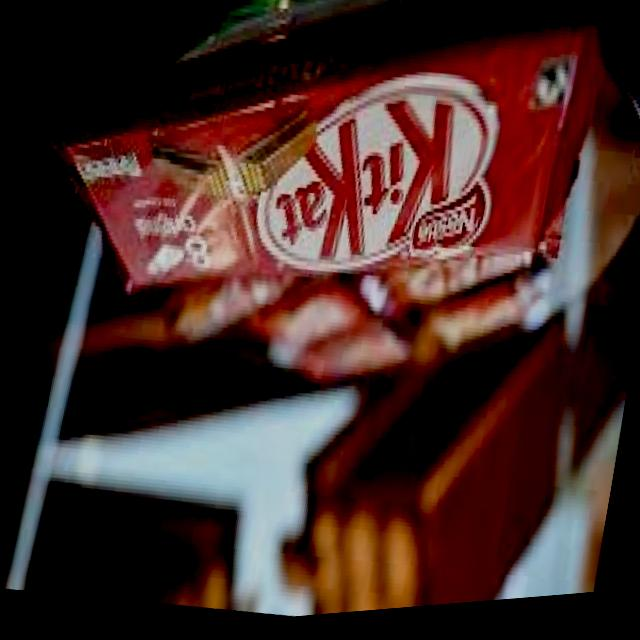kitkat: (23, 0, 602, 385)
